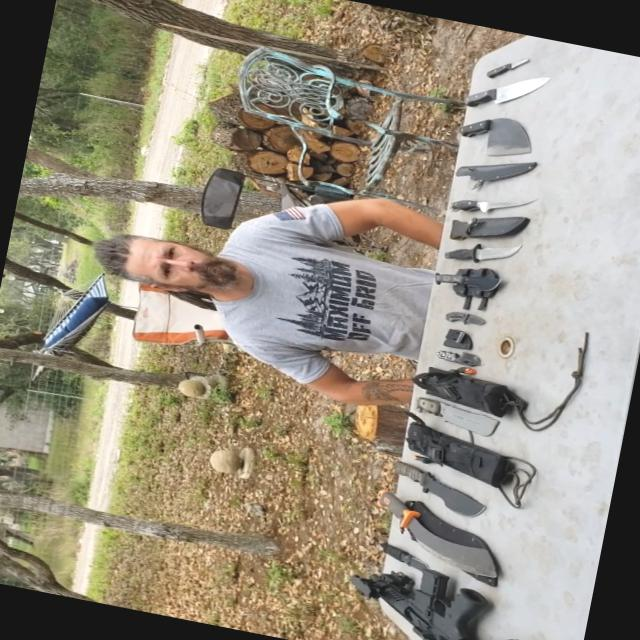knife: (354, 482, 509, 584), (371, 448, 492, 522), (398, 384, 511, 446), (442, 104, 543, 164), (461, 58, 553, 123), (441, 181, 542, 232), (432, 226, 530, 276), (422, 256, 512, 302), (368, 532, 442, 575), (419, 336, 494, 376), (429, 298, 499, 336), (470, 44, 533, 86)
long weapon: (312, 531, 562, 639)
